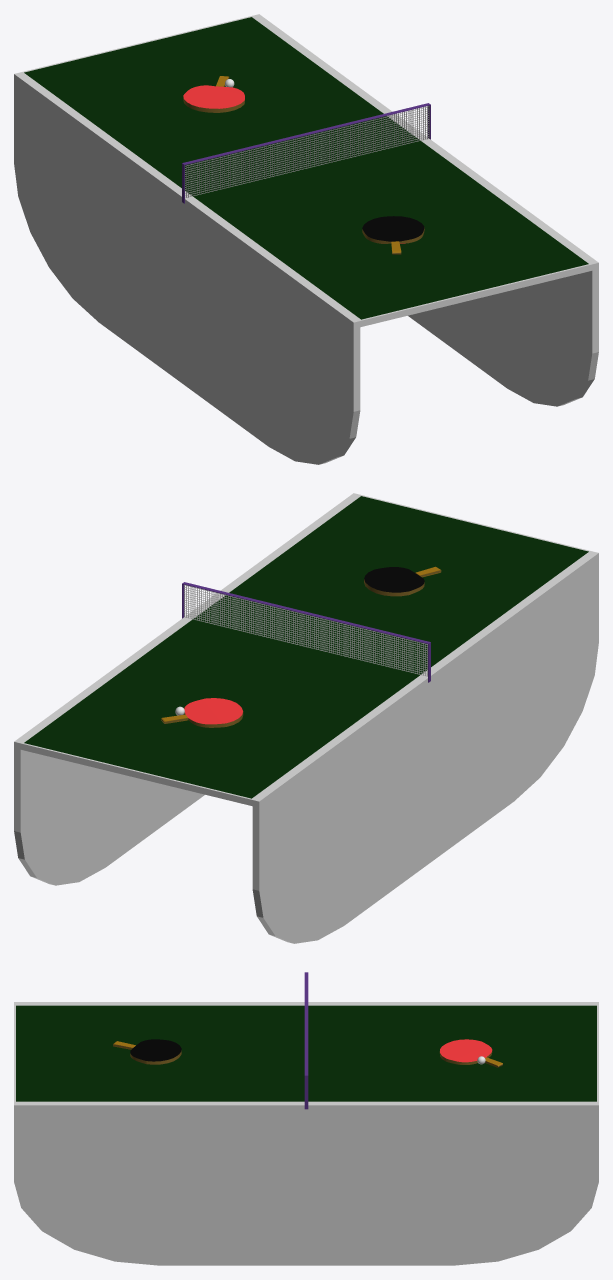
File: PinPong.fbx
3 renders of one model, top to bottom at view 1: azimuth 30°, elevation 25°; view 2: azimuth 150°, elevation 25°; view 3: azimuth 270°, elevation 25°, orthographic. The views are drawn at different scales.
Parts seen in each view (by area): view 1: Cube, Plane, Cube.003, Cube.002, Cube.001; view 2: Cube, Plane, Cube.002, Cube.003, Cube.001; view 3: Cube, Cube.003, Cube.002, Cube.001.
Boxes of the visible parts, <box> form: Cube: <box>14,14,598,464</box>; Plane: <box>185,105,429,198</box>; Cube.003: <box>362,216,424,254</box>; Cube.002: <box>183,76,244,112</box>; Cube.001: <box>182,103,430,203</box>; Cube: <box>14,493,598,943</box>; Plane: <box>184,584,427,676</box>; Cube.002: <box>161,698,243,727</box>; Cube.003: <box>364,566,441,596</box>; Cube.001: <box>182,582,430,682</box>; Cube: <box>14,1002,598,1265</box>; Cube.003: <box>113,1039,181,1064</box>; Cube.002: <box>439,1039,502,1067</box>; Cube.001: <box>304,972,308,1109</box>.
Bounding box in the file's own units: 400 × 342 × 955.
